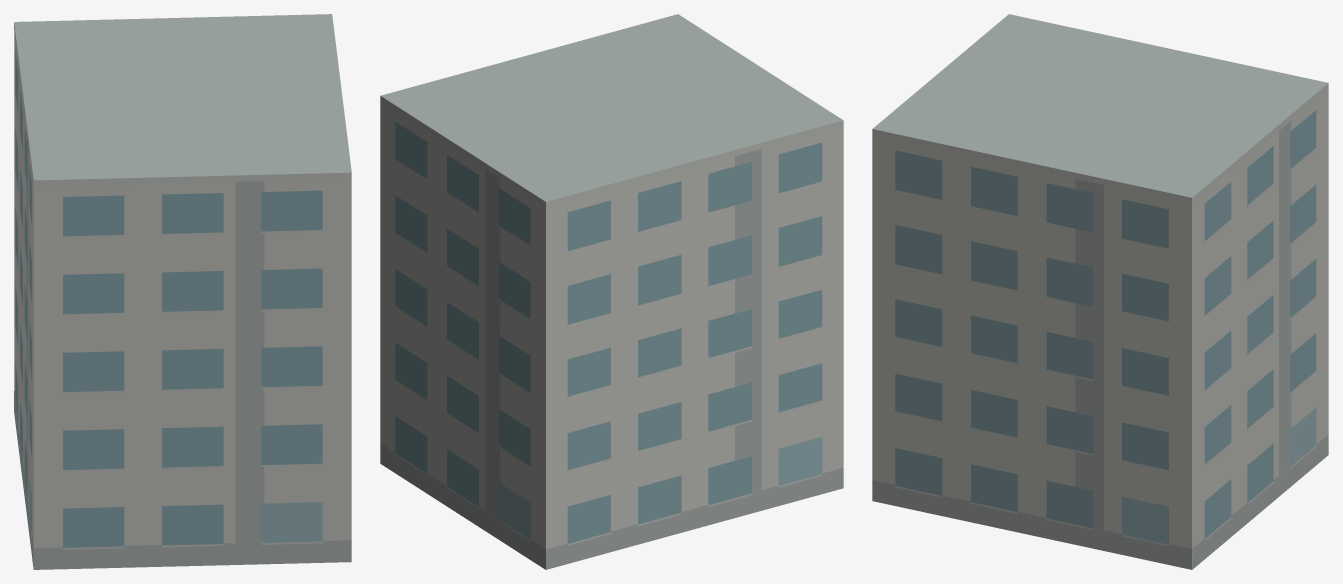
File: survey-upis-32673508.glb
The picture shows the model from 3 angles, left to right: view 1: azimuth 30°, elevation 25°; view 2: azimuth 150°, elevation 25°; view 3: azimuth 270°, elevation 25°; orthographic projection. The views are drawn at different scales.
Visible parts, largest first — view 1: survey-upis-32673508.tmp; view 2: survey-upis-32673508.tmp; view 3: survey-upis-32673508.tmp.
Part boxes in pixels (x1=…): survey-upis-32673508.tmp: x1=14, y1=14, x2=351, y2=569; survey-upis-32673508.tmp: x1=380, y1=14, x2=843, y2=569; survey-upis-32673508.tmp: x1=872, y1=14, x2=1328, y2=569.
Size of the model in its own units: 15.64 by 14.75 by 16.4.
